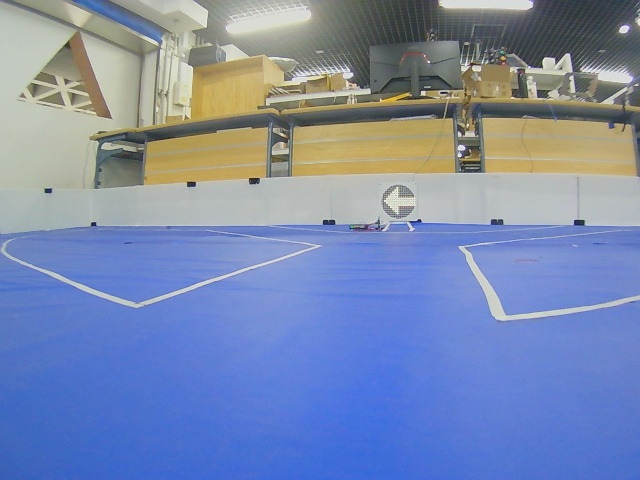left_yellow: (382, 185, 417, 219)
